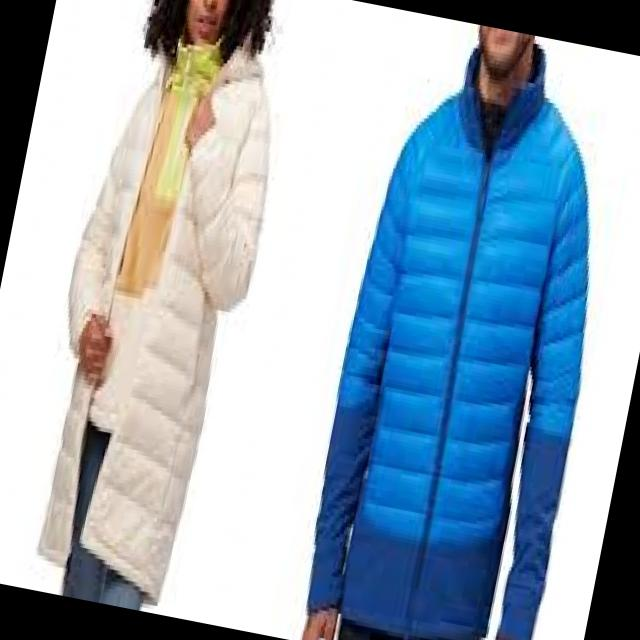Jacket: (306, 72, 634, 625), (0, 27, 288, 619)
